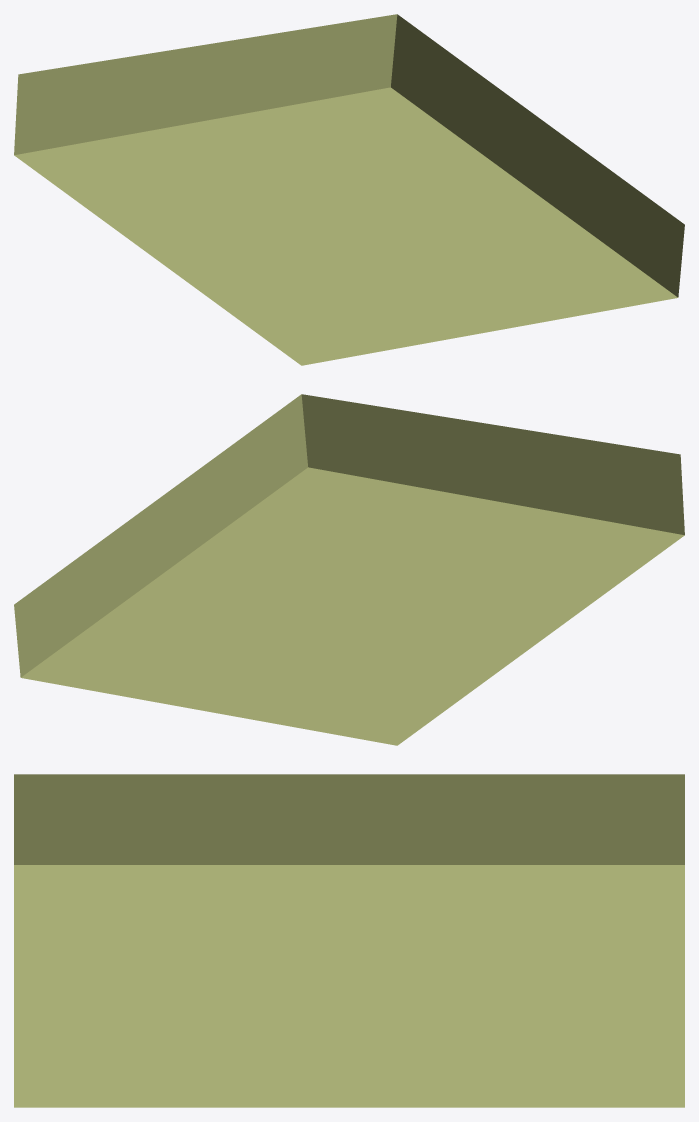
The picture shows the model from 3 angles, top to bottom: view 1: azimuth 30°, elevation 25°; view 2: azimuth 150°, elevation 25°; view 3: azimuth 270°, elevation 25°; orthographic projection. The views are drawn at different scales.
Parts seen in each view (by area): view 1: 0_2_1_3_0_3_1_1_3_2; view 2: 0_2_1_3_0_3_1_1_3_2; view 3: 0_2_1_3_0_3_1_1_3_2.
Boxes of the visible parts, <box> form: 0_2_1_3_0_3_1_1_3_2: <box>14,14,684,365</box>; 0_2_1_3_0_3_1_1_3_2: <box>14,394,684,745</box>; 0_2_1_3_0_3_1_1_3_2: <box>14,774,684,1107</box>.
Bounding box in the file's own units: 6.93 × 1.79 × 9.
